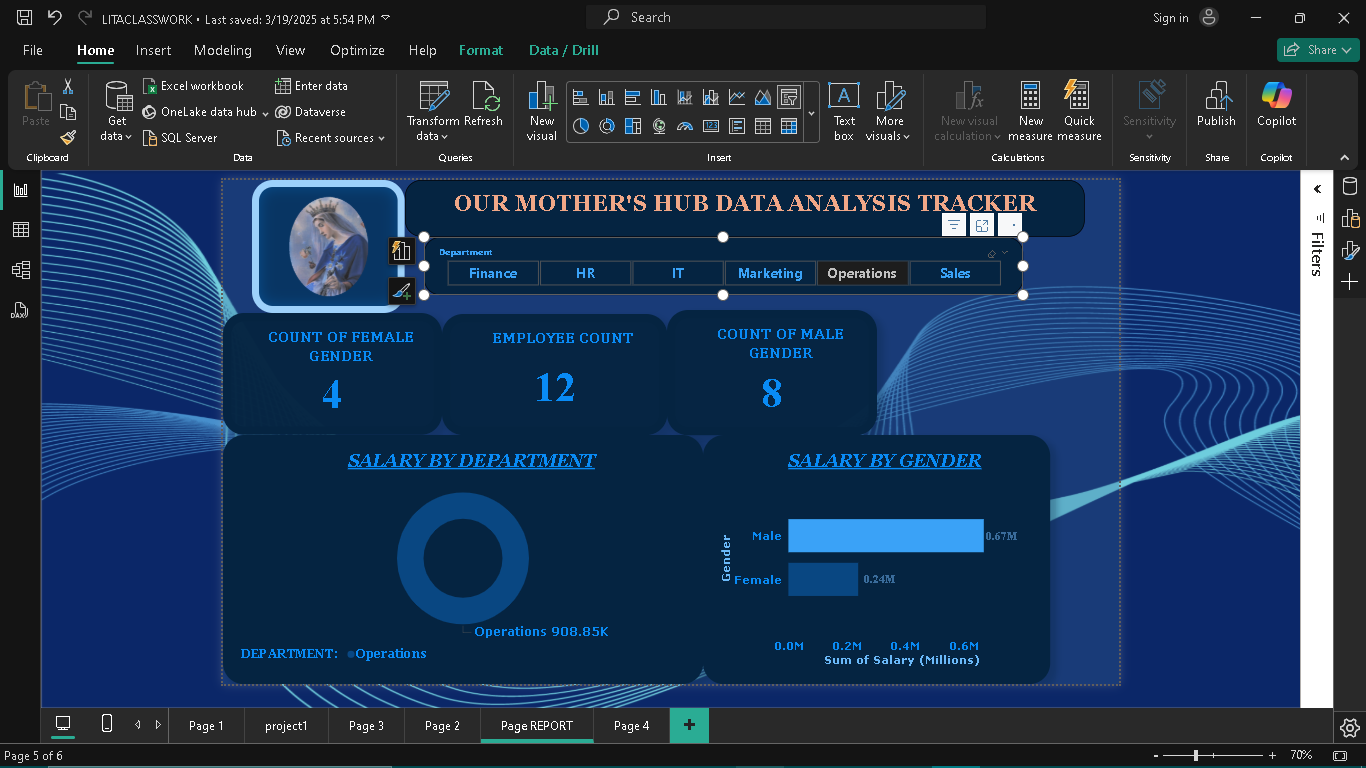

What the dashboard file says about the page in this screenshot:
{"tool":"powerbi","page":{"name":"Page REPORT","canvas":[1280,720],"ordinal":0},"visuals":[{"type":"card","title":"EMPLOYEE COUNT","fields":{"Values":["HR_Employee_Data.Measure 2"]},"box":[312.9,190,321.4,174.3],"z":0},{"type":"card","title":" COUNT OF MALE GENDER","fields":{"Values":["Count(HR_Employee_Data)"]},"box":[634.3,185.7,300,178.6],"z":1000},{"type":"card","title":" COUNT OF FEMALE GENDER","fields":{"Values":["Count(HR_Employee_Data)"]},"box":[0,190,312.9,174.3],"z":2000},{"type":"textbox","box":[260,0,971.4,81.4],"z":3000},{"type":"image","box":[41.7,0,218.3,190],"z":4000},{"type":"donutChart","title":"SALARY BY DEPARTMENT","fields":{"Y":["Sum(HR_Employee_Data.Salary)"],"Category":["HR_Employee_Data.Department"]},"box":[0,364.3,685.7,355.7],"z":5000},{"type":"clusteredBarChart","title":"SALARY BY GENDER","fields":{"Y":["Sum(HR_Employee_Data.Salary)"],"Category":["HR_Employee_Data.Gender"]},"box":[685.7,364.3,495.7,355.7],"z":6000},{"type":"slicer","fields":{"Values":["HR_Employee_Data.Department"]},"box":[287.1,81.4,855.7,82.9],"z":7000}]}

Visuals, with their boxes on the page's 1280x720 design canvas (x1, y1, x2, y2). These are canvas units, not pixel positions in the 1366x768 screenshot, which may show the page scaled, cropped or inside an application window:
"EMPLOYEE COUNT" card: box=[313, 190, 634, 364]
" COUNT OF MALE GENDER" card: box=[634, 186, 934, 364]
" COUNT OF FEMALE GENDER" card: box=[0, 190, 313, 364]
textbox: box=[260, 0, 1231, 81]
image: box=[42, 0, 260, 190]
"SALARY BY DEPARTMENT" donutChart: box=[0, 364, 686, 720]
"SALARY BY GENDER" clusteredBarChart: box=[686, 364, 1181, 720]
slicer - HR_Employee_Data.Department: box=[287, 81, 1143, 164]
